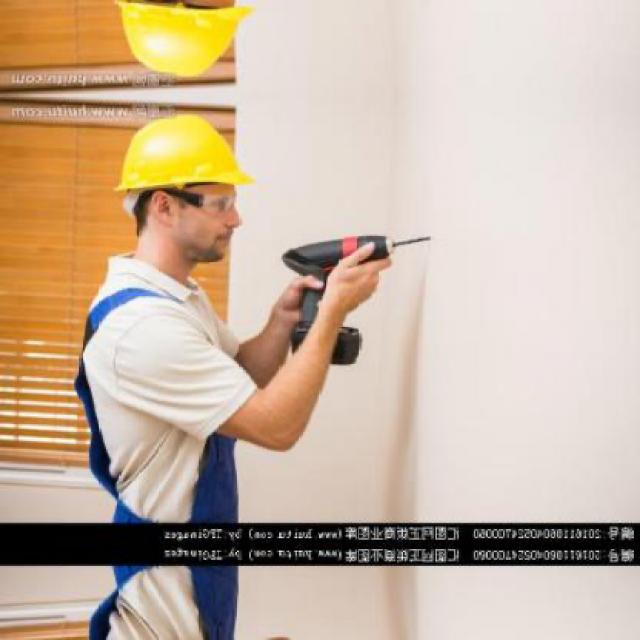helmet: (103, 105, 269, 282), (102, 0, 269, 88)
